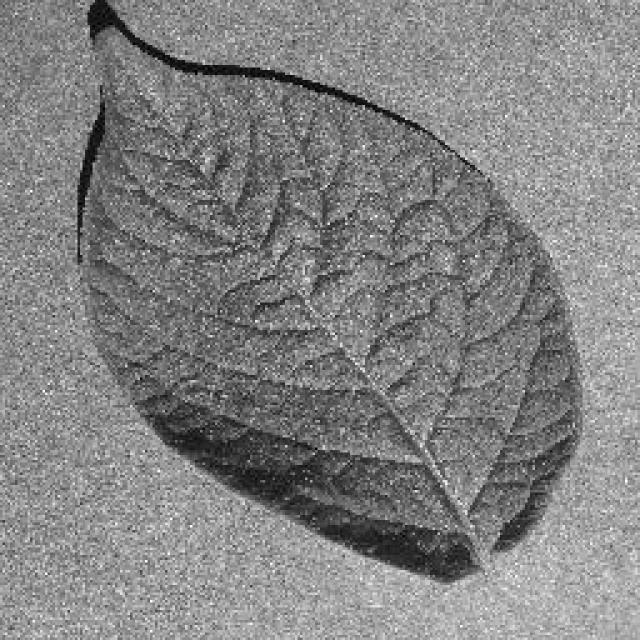Potato: (72, 0, 585, 582)
